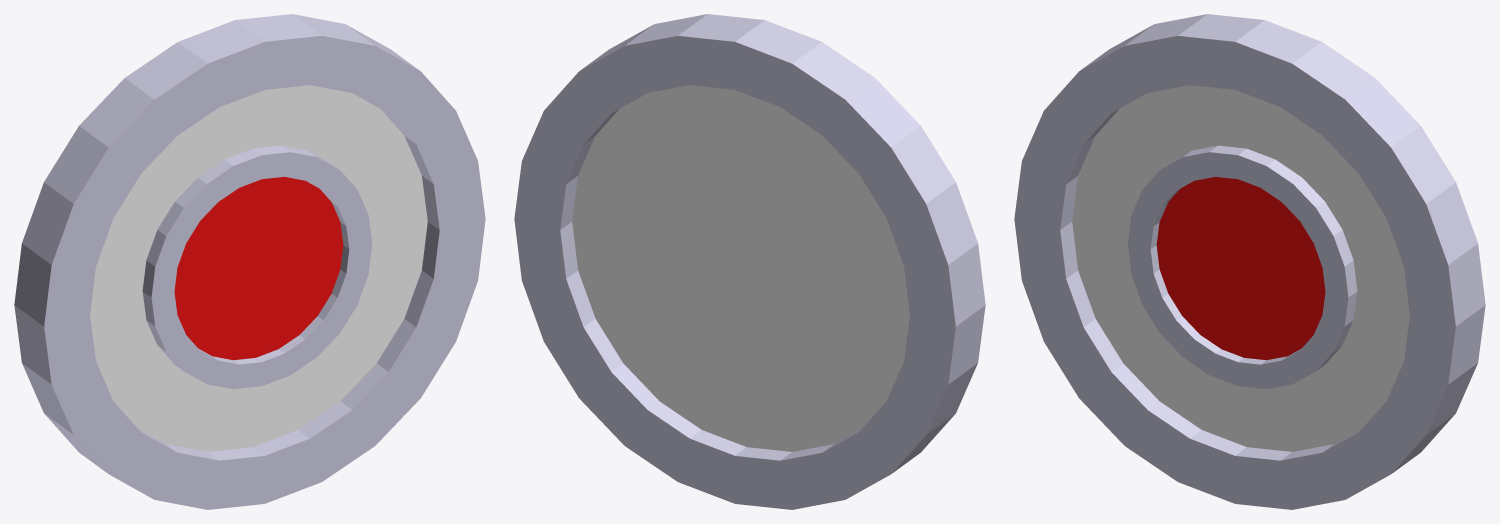
Rendered from target2whole.glb.
The picture shows the model from 3 angles, left to right: view 1: azimuth 30°, elevation 25°; view 2: azimuth 150°, elevation 25°; view 3: azimuth 330°, elevation 25°; orthographic projection.
Visible parts, largest first — view 1: window_round; view 2: window_round; view 3: window_round.
Part boxes in pixels (x1,y1,x2,y2): window_round: (14, 14, 485, 509); window_round: (514, 14, 985, 509); window_round: (1014, 14, 1485, 509).
Bounding box in the file's own units: 0.4277 × 0.4277 × 0.05.
